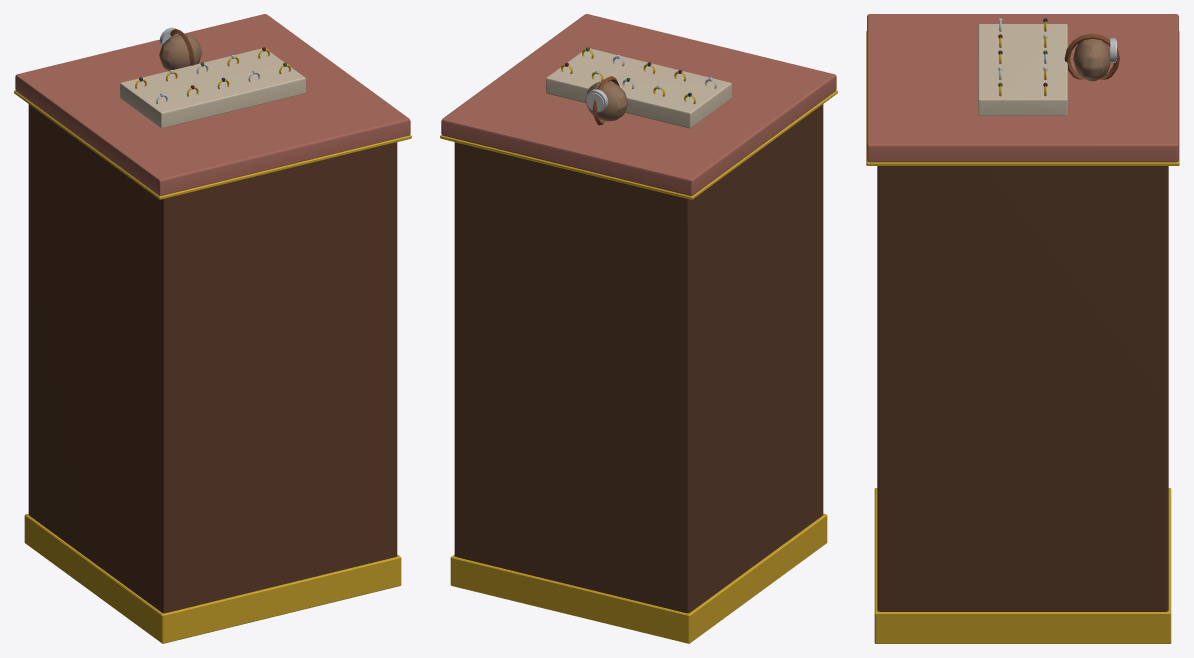
File: prop_podium_tray.glb
3 renders of one model, left to right at view 1: azimuth 30°, elevation 25°; view 2: azimuth 150°, elevation 25°; view 3: azimuth 270°, elevation 25°, orthographic. The views are drawn at different scales.
Parts seen in each view (by area): view 1: Podium; view 2: Podium; view 3: Podium.
Boxes of the visible parts, x1,y1,x2,y2 form: Podium: [14, 14, 411, 643]; Podium: [440, 14, 837, 643]; Podium: [866, 14, 1179, 643].
Size of what is drawn, in the model's own units: 0.452 by 0.872 by 0.452.
